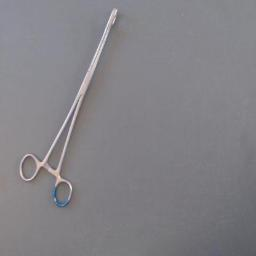Sponge Forceps: (14, 4, 124, 214)
